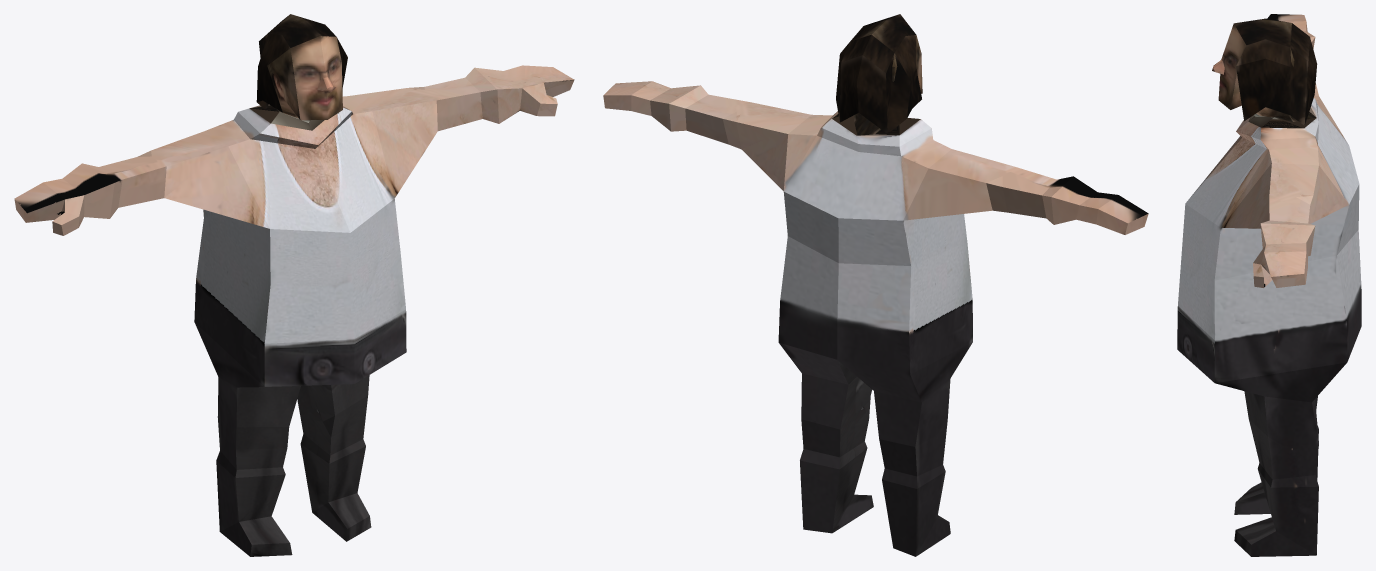
File: MenacingYashav2.fbx
3 renders of one model, left to right at view 1: azimuth 30°, elevation 25°; view 2: azimuth 150°, elevation 25°; view 3: azimuth 270°, elevation 25°, orthographic. The views are drawn at different scales.
Parts seen in each view (by area): view 1: Head; view 2: Head; view 3: Head.
Part boxes in pixels (x1,y1,x2,y2): Head: [14, 14, 574, 556]; Head: [603, 14, 1148, 556]; Head: [1177, 14, 1361, 556].
Bounding box in the file's own units: 313 × 282 × 92.83.
